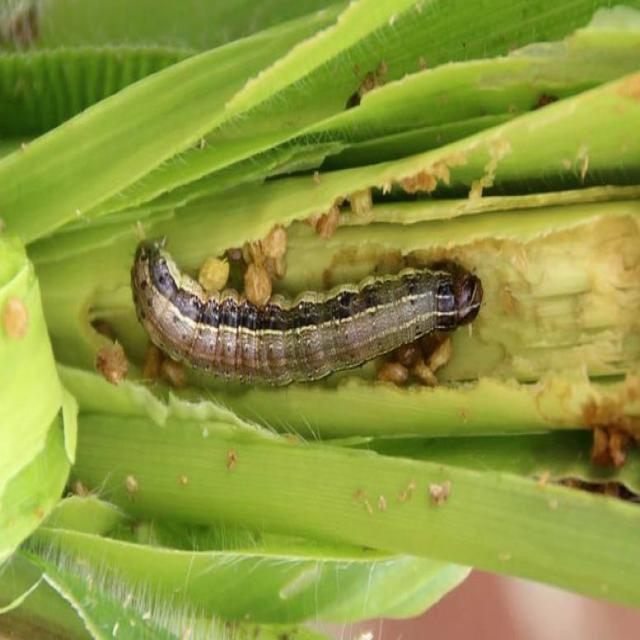pest: (130, 250, 484, 380)
